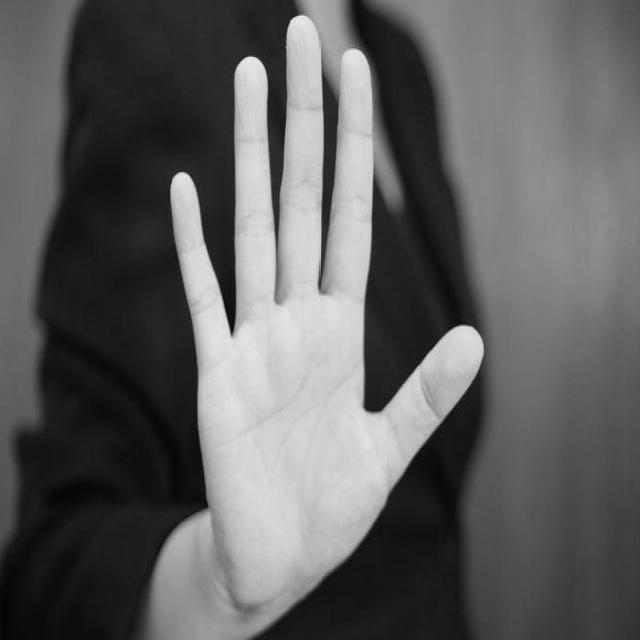stop: (168, 5, 489, 623)
